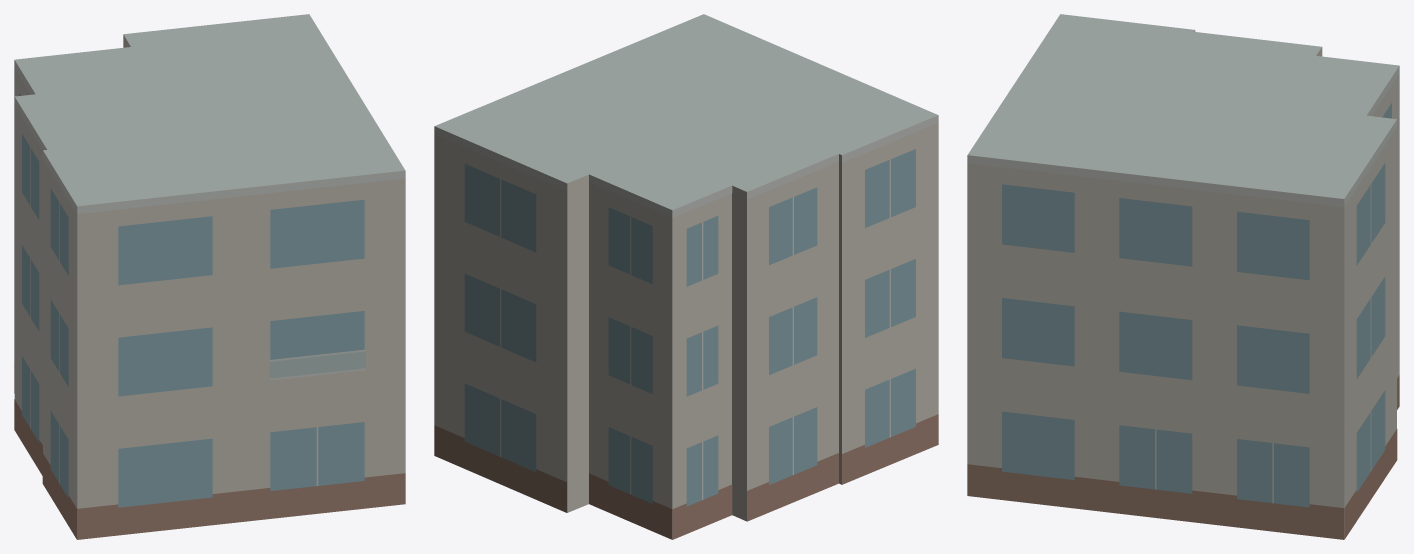
The model's file is survey-upis-32829901.glb.
3 renders of one model, left to right at view 1: azimuth 30°, elevation 25°; view 2: azimuth 150°, elevation 25°; view 3: azimuth 270°, elevation 25°, orthographic. The views are drawn at different scales.
Visible parts, largest first — view 1: survey-upis-32829901.tmp; view 2: survey-upis-32829901.tmp; view 3: survey-upis-32829901.tmp.
Boxes of the visible parts, x1,y1,x2,y2 form: survey-upis-32829901.tmp: (14, 14, 405, 539); survey-upis-32829901.tmp: (434, 14, 938, 539); survey-upis-32829901.tmp: (967, 14, 1399, 539).
Size of the model in its own units: 12.12 by 10.4 by 11.96.
